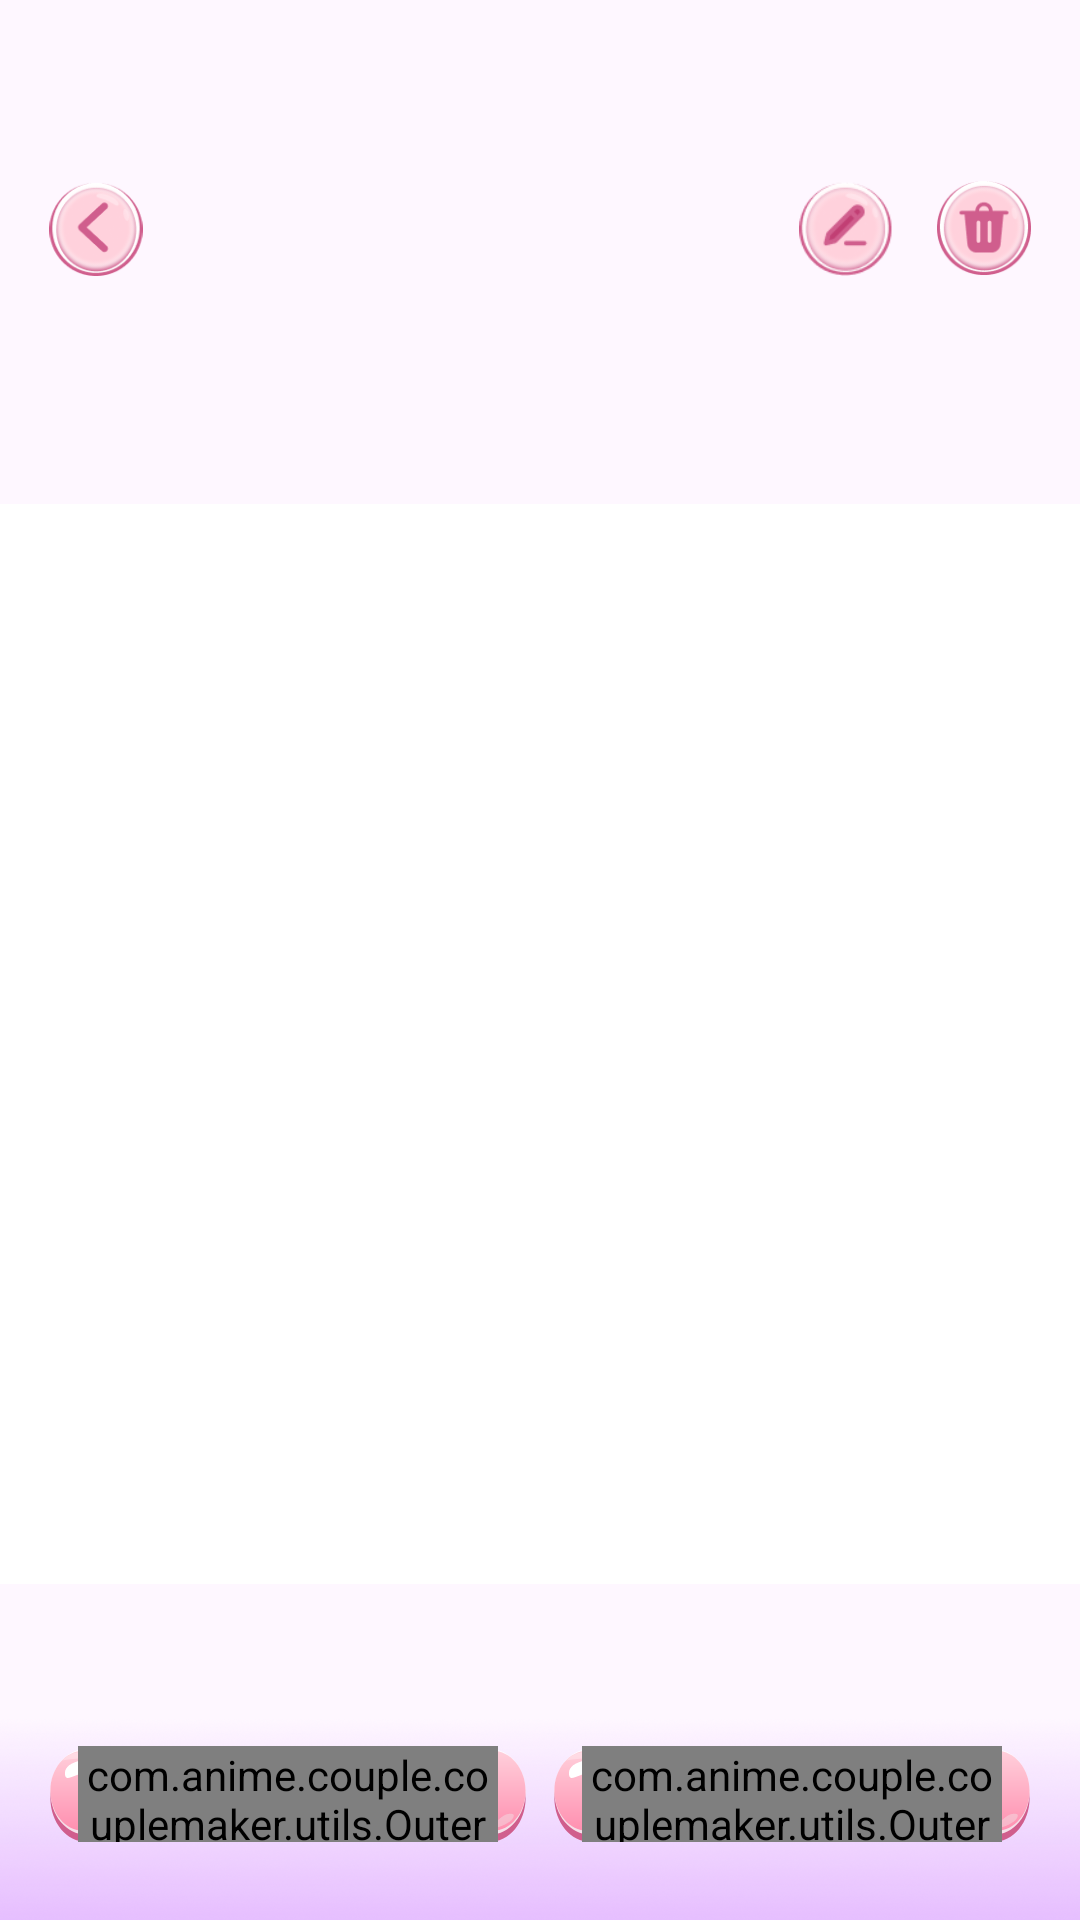

Icon click points for this 1080px x 1920px phone screenshot, format [x,y]:
back app: [96,231]
imv delete: [984,229]
imv edit: [845,230]
